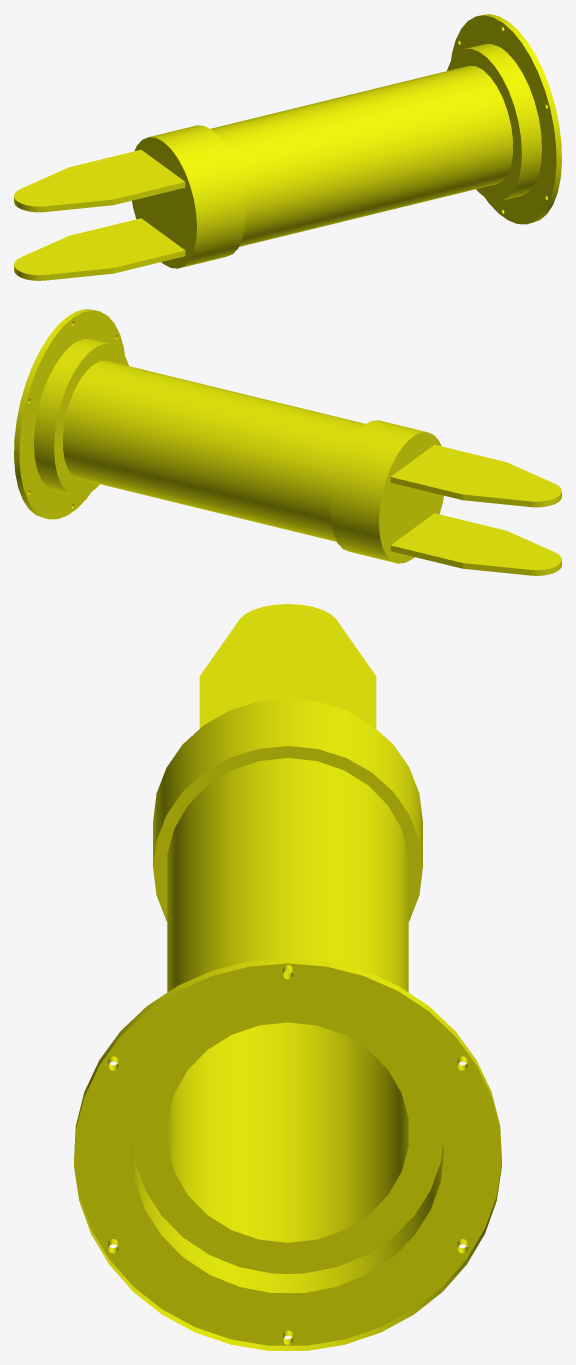
File: body_4.obj
3 renders of one model, top to bottom at view 1: azimuth 30°, elevation 25°; view 2: azimuth 150°, elevation 25°; view 3: azimuth 270°, elevation 25°, orthographic. The views are drawn at different scales.
Parts seen in each view (by area): view 1: Body_11; view 2: Body_11; view 3: Body_11.
Part boxes in pixels (x1=…): Body_11: x1=14, y1=14, x2=561, y2=280; Body_11: x1=14, y1=309, x2=561, y2=575; Body_11: x1=74, y1=604, x2=501, y2=1350.
Bounding box in the file's own units: 0.9 × 0.3393 × 0.3397.
